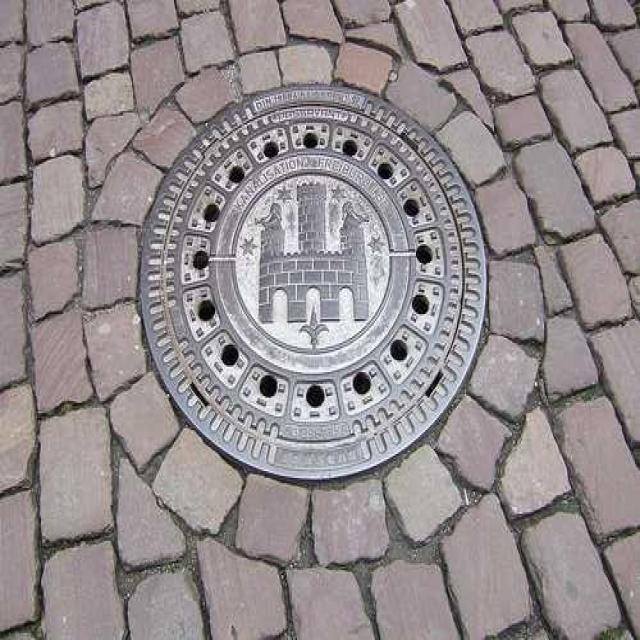manhole: (140, 87, 486, 479)
